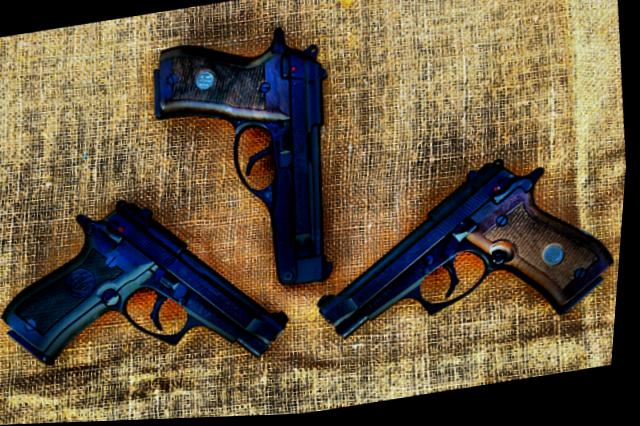pistol: (300, 141, 631, 370), (0, 174, 302, 401), (132, 24, 355, 311)
